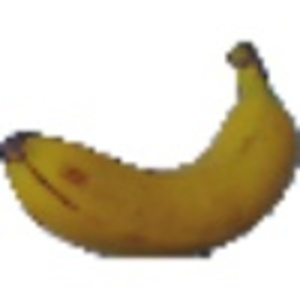banana: (2, 38, 298, 263)
